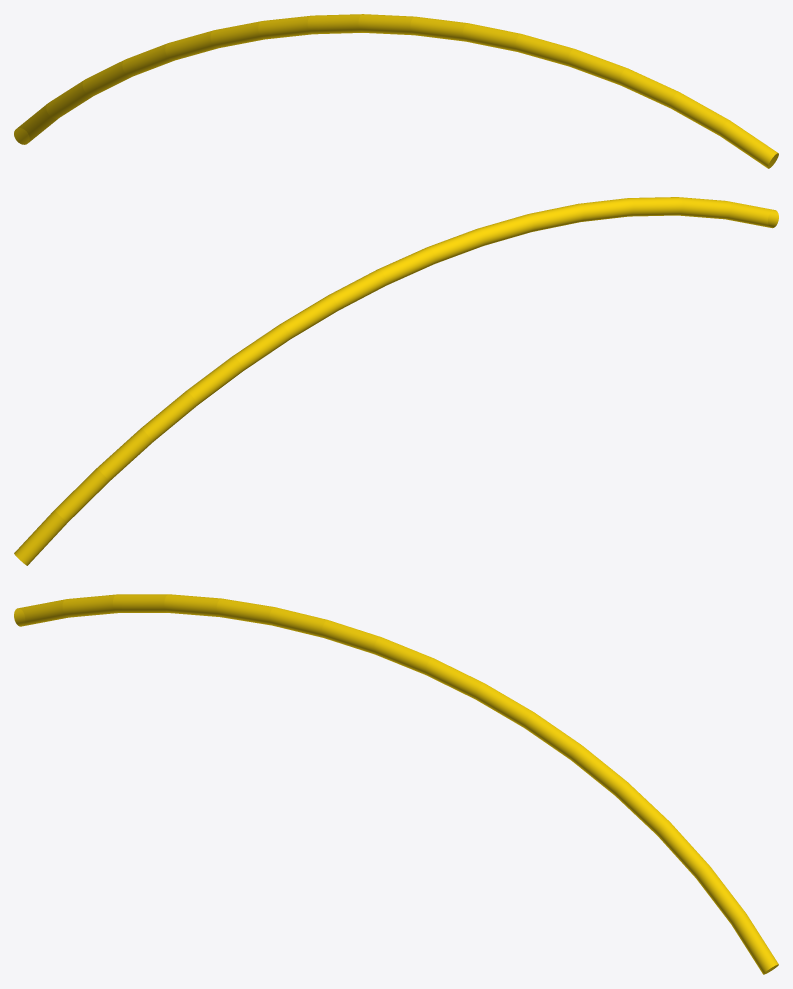
The model's file is Event_421364160_track_39.fbx.
The picture shows the model from 3 angles, top to bottom: view 1: azimuth 90°, elevation 25°; view 2: azimuth 150°, elevation 25°; view 3: azimuth 270°, elevation 25°; orthographic projection.
Parts seen in each view (by area): view 1: Model; view 2: Model; view 3: Model.
Part boxes in pixels (x1,y1,x2,y2): Model: (14,14,778,168); Model: (14,197,778,565); Model: (14,594,778,974).
Size of the model in its own units: 0.9865 by 0.5601 by 1.63.
